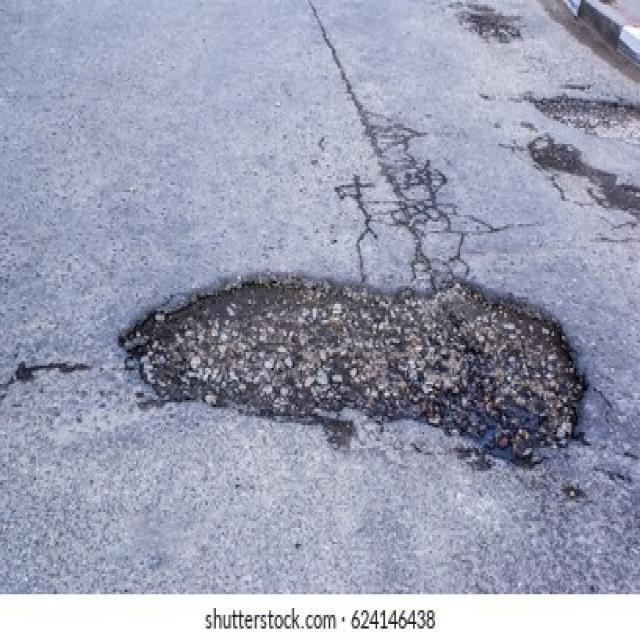pothole: (117, 270, 590, 476), (529, 96, 640, 142)
